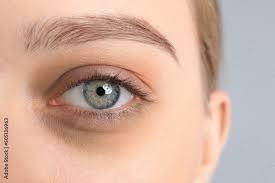Eyebags: (46, 108, 146, 148)
